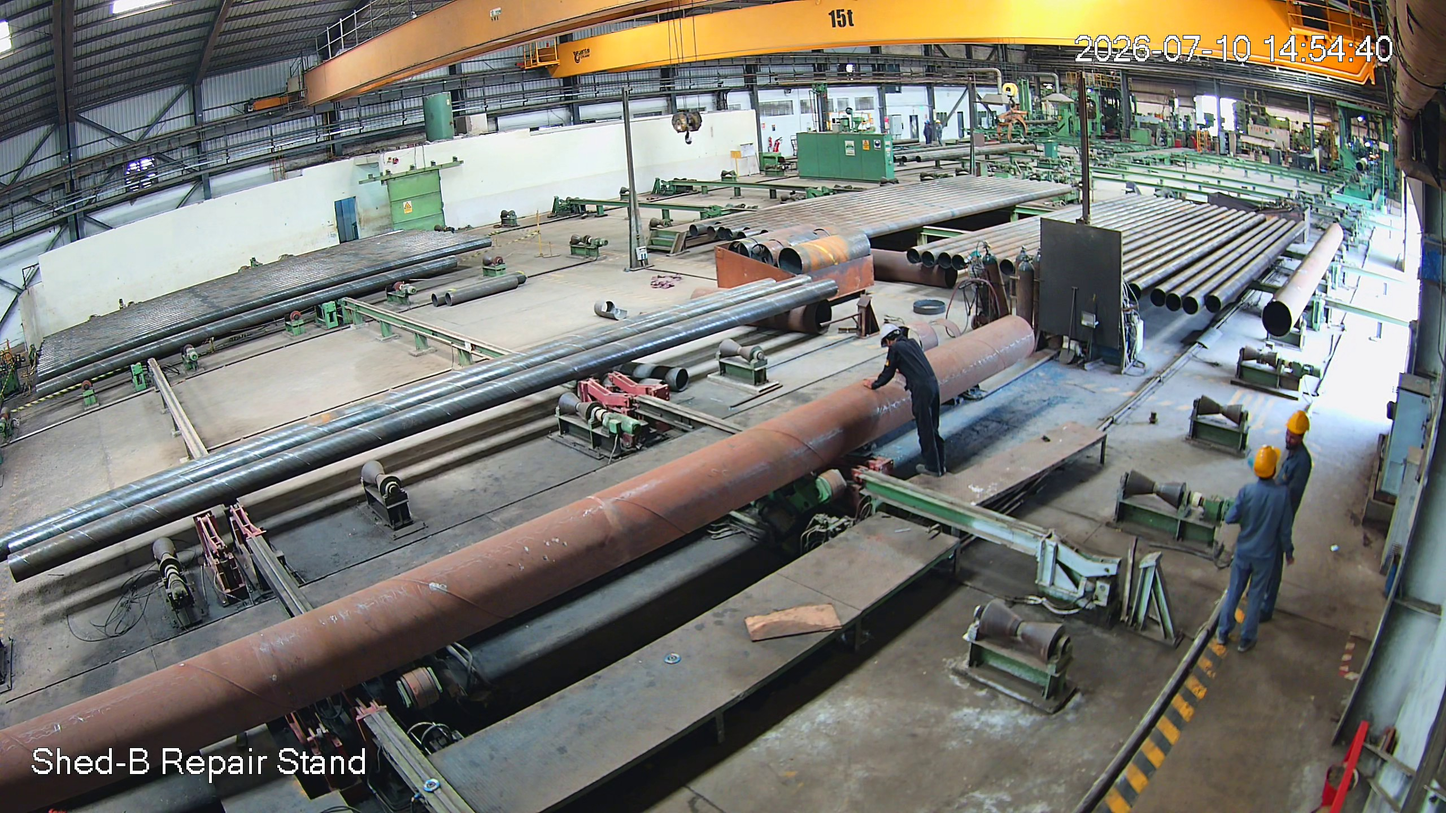Helmet: (1240, 440, 1289, 491), (874, 315, 921, 364), (1280, 403, 1312, 466)
Person: (867, 321, 958, 484), (1226, 446, 1292, 657), (1276, 408, 1321, 549)
